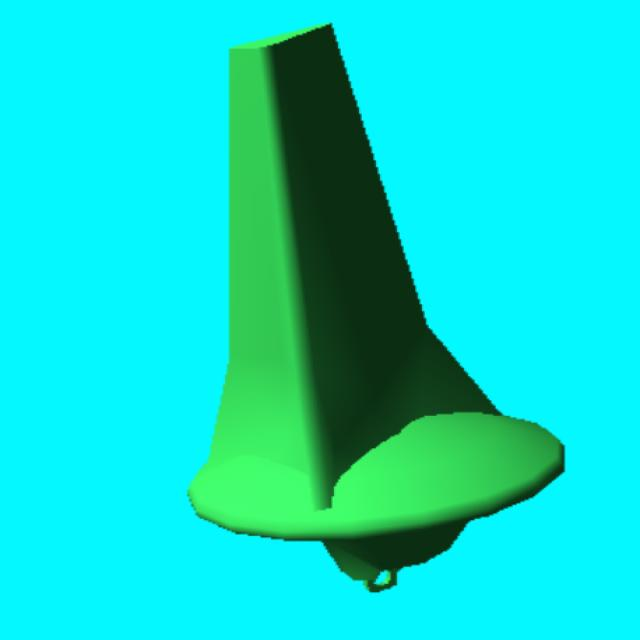GreenBuoy: (186, 24, 567, 597)
